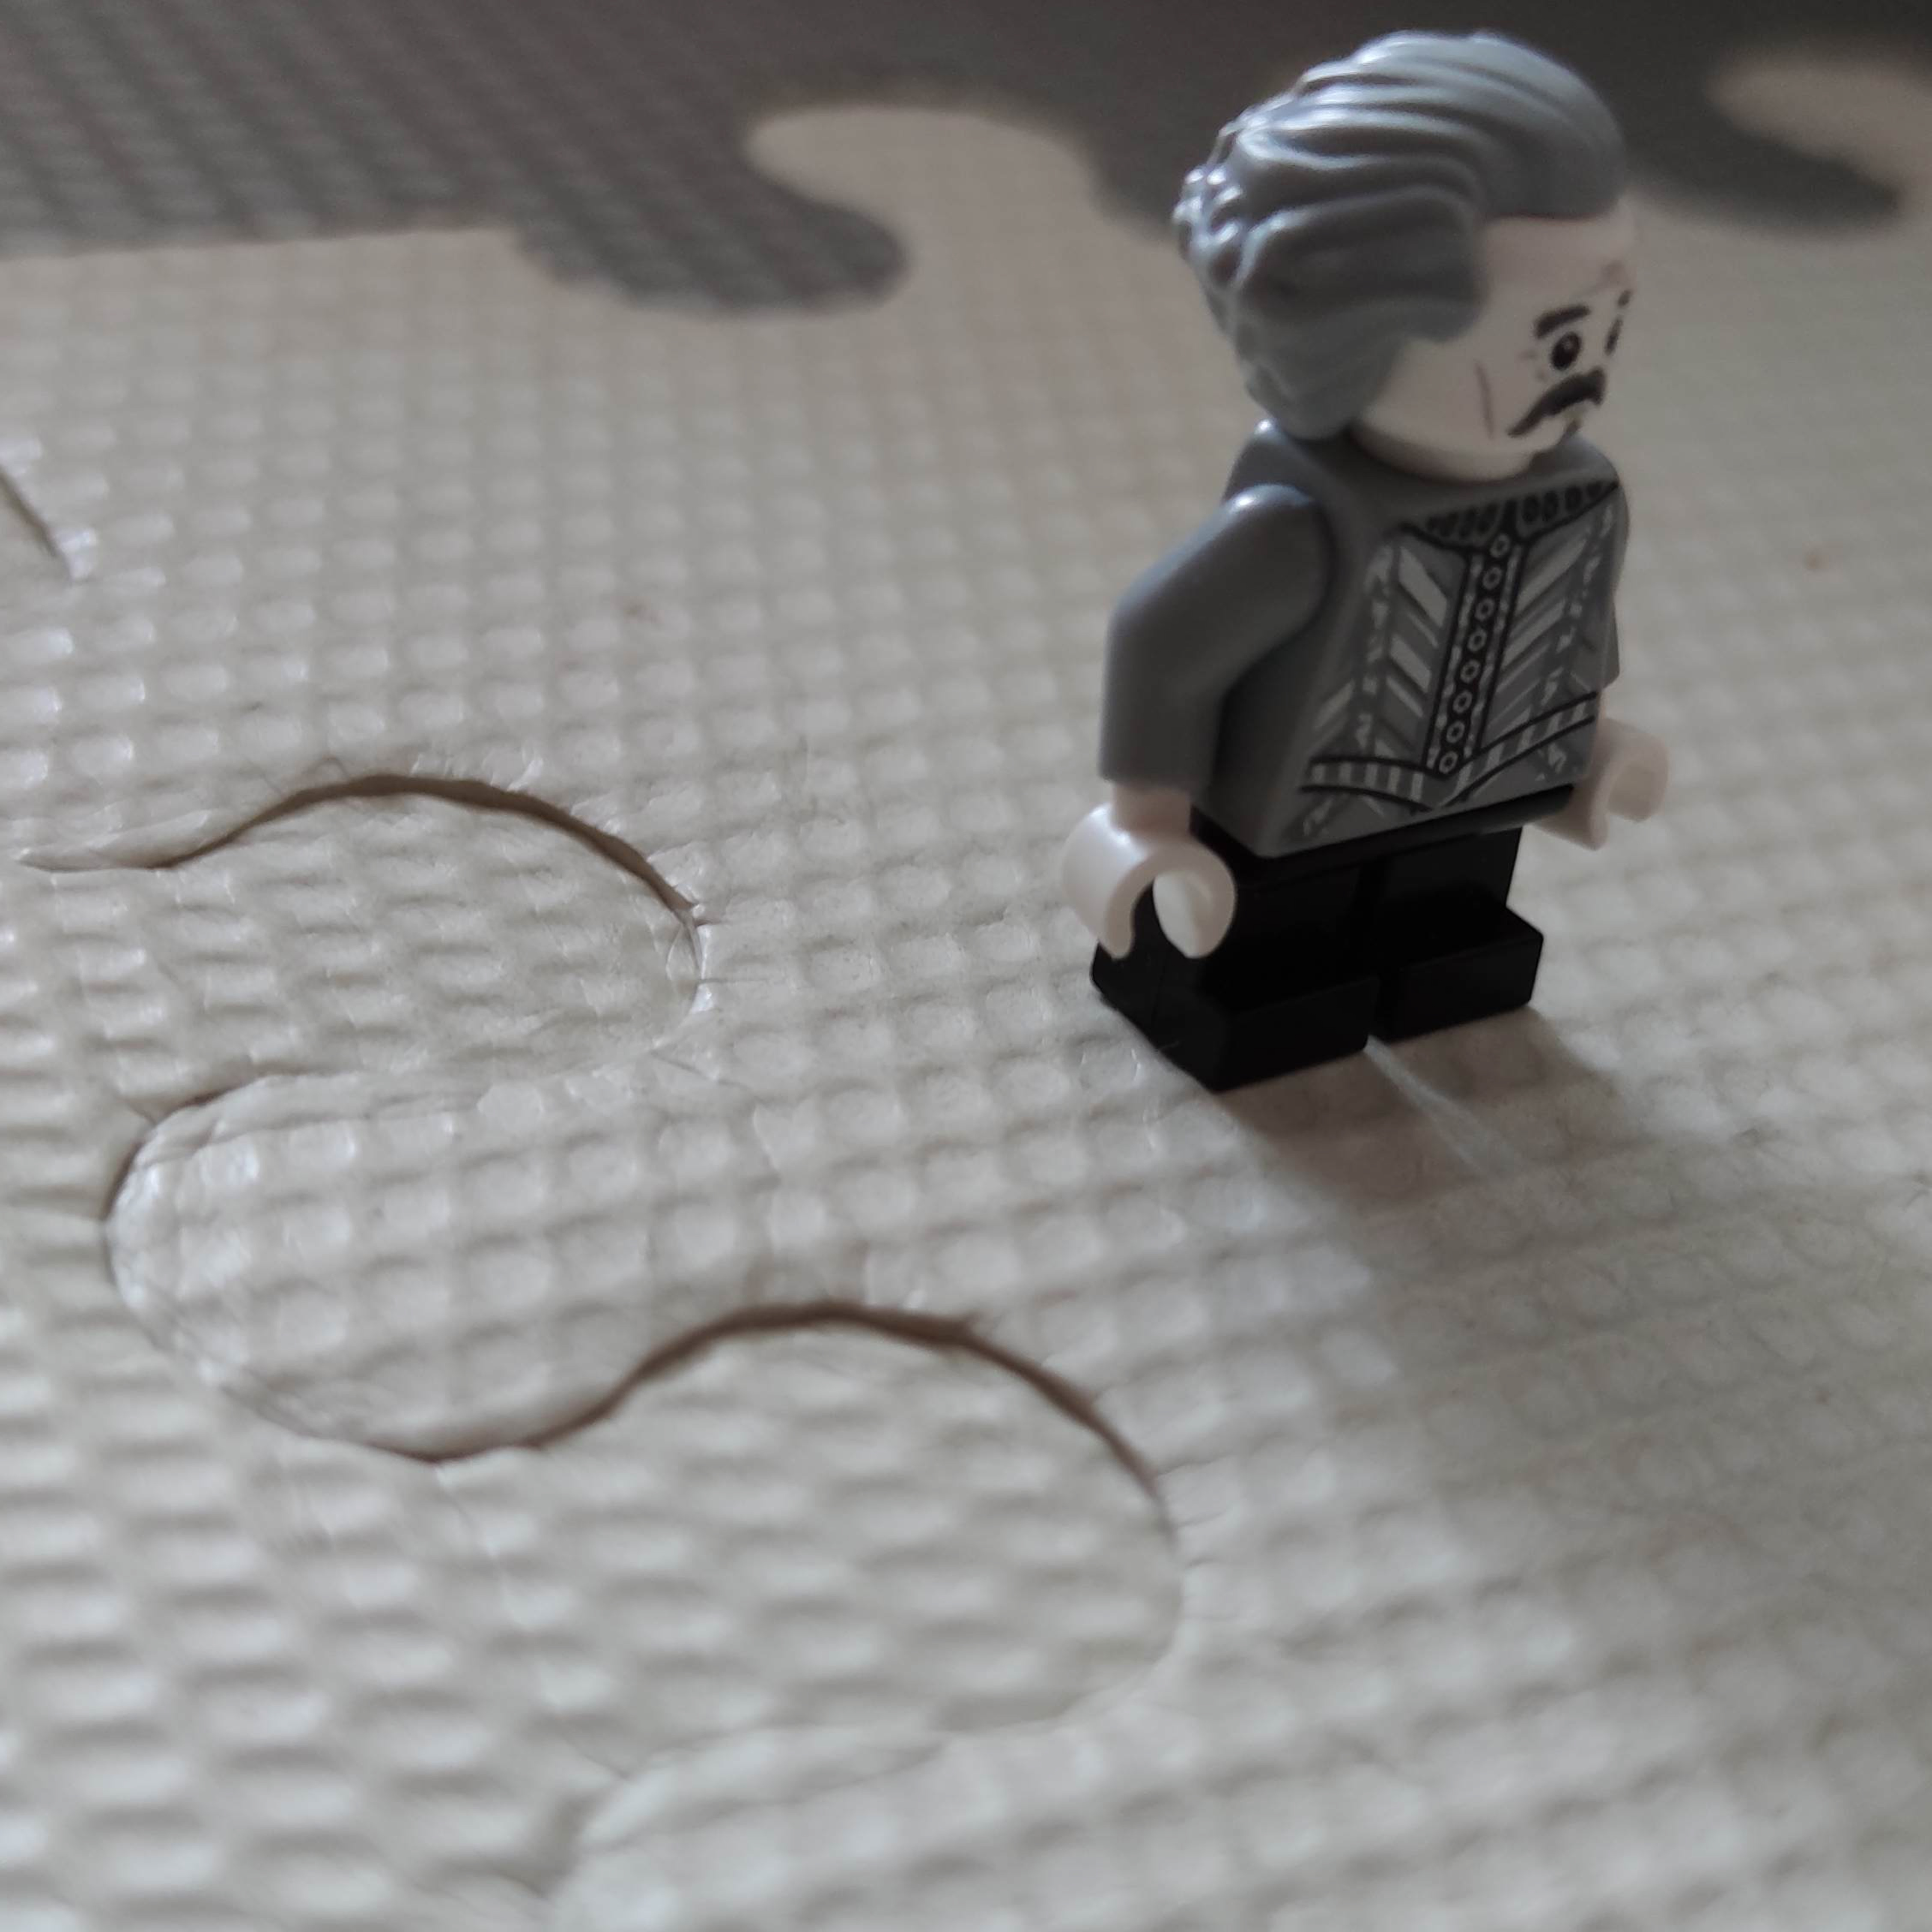lego: (1065, 39, 1665, 1090)
